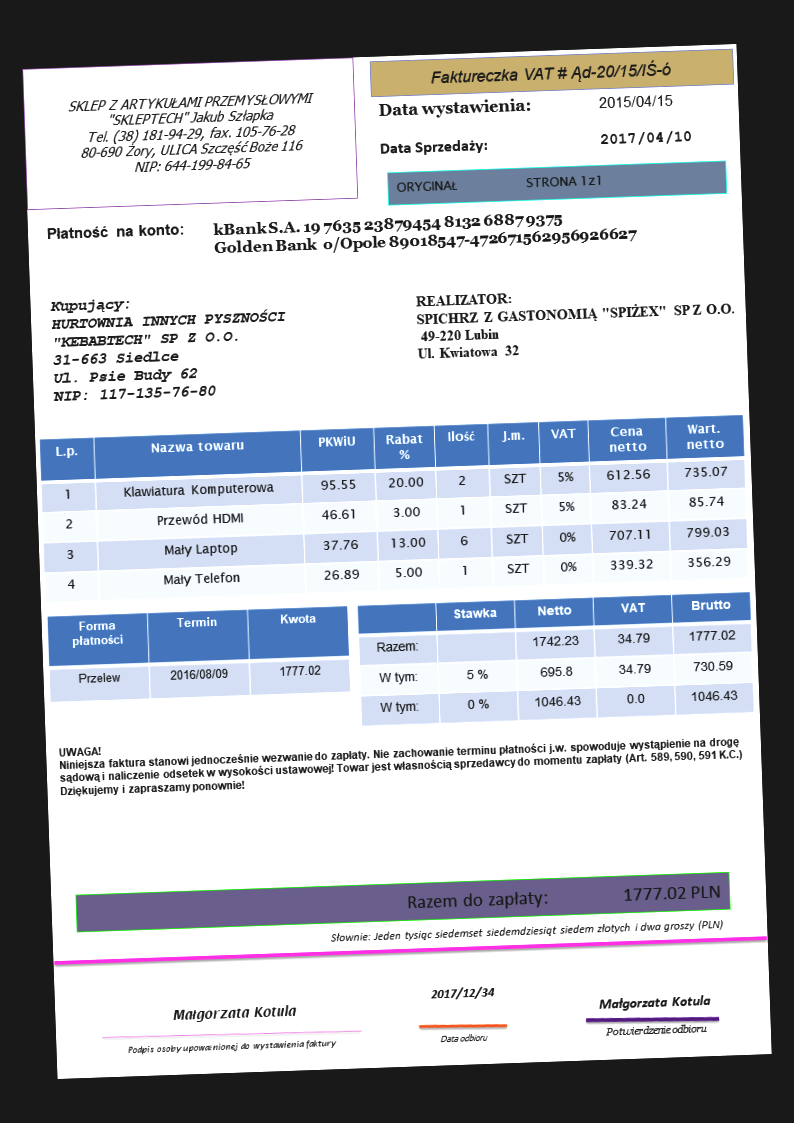Table: (37, 411, 751, 606), (353, 589, 755, 729), (46, 604, 352, 703)
TextBox: (55, 718, 747, 801), (45, 288, 291, 405), (411, 280, 740, 363), (64, 83, 319, 182), (209, 203, 641, 259), (327, 915, 730, 946), (402, 877, 722, 913), (426, 56, 677, 87), (393, 169, 605, 198), (121, 1035, 340, 1058), (375, 92, 535, 121), (40, 219, 189, 246), (169, 997, 300, 1026), (374, 134, 495, 160), (592, 989, 716, 1013), (596, 124, 696, 150), (593, 87, 675, 115), (600, 1021, 711, 1040), (427, 983, 497, 1003), (436, 1030, 491, 1049)
